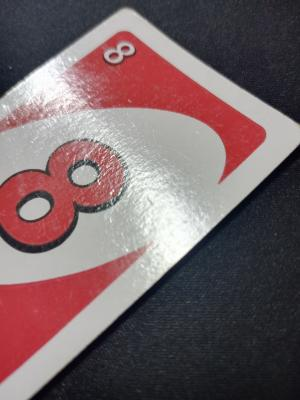num_8: (0, 132, 138, 265)
